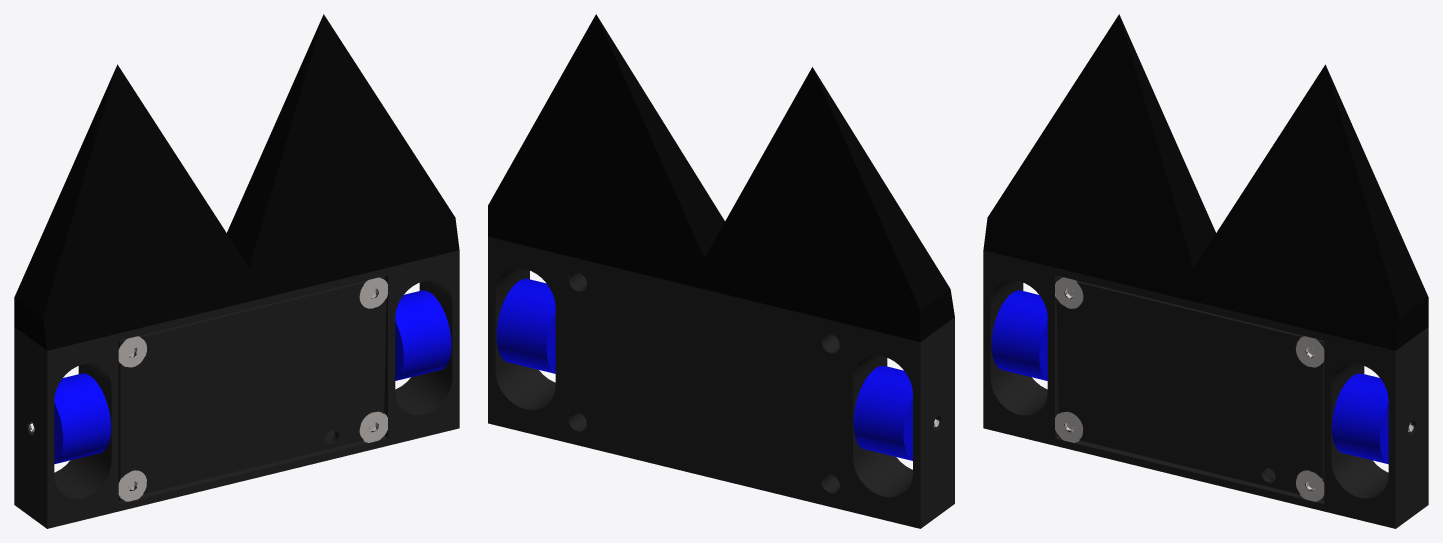
File: twofold-opt.glb
3 renders of one model, left to right at view 1: azimuth 30°, elevation 25°; view 2: azimuth 150°, elevation 25°; view 3: azimuth 330°, elevation 25°, orthographic. The views are drawn at different scales.
Visible parts, largest first — view 1: Part 12, Top, Tires, 92095A452_Button Head Hex Drive Screw; view 2: Top, Part 12, Tires; view 3: Part 12, Top, Tires, 92095A452_Button Head Hex Drive Screw.
Boxes of the visible parts, x1,y1,x2,y2 form: Part 12: [14, 14, 459, 350]; Top: [14, 250, 459, 528]; Tires: [54, 290, 451, 464]; 92095A452_Button Head Hex Drive Screw: [31, 277, 387, 501]; Top: [488, 236, 954, 528]; Part 12: [488, 14, 954, 341]; Tires: [496, 278, 912, 460]; Part 12: [983, 14, 1428, 350]; Top: [983, 250, 1428, 528]; Tires: [991, 290, 1388, 464]; 92095A452_Button Head Hex Drive Screw: [1055, 277, 1411, 501].
Size of the model in its own units: 185 by 178 by 31.74.
